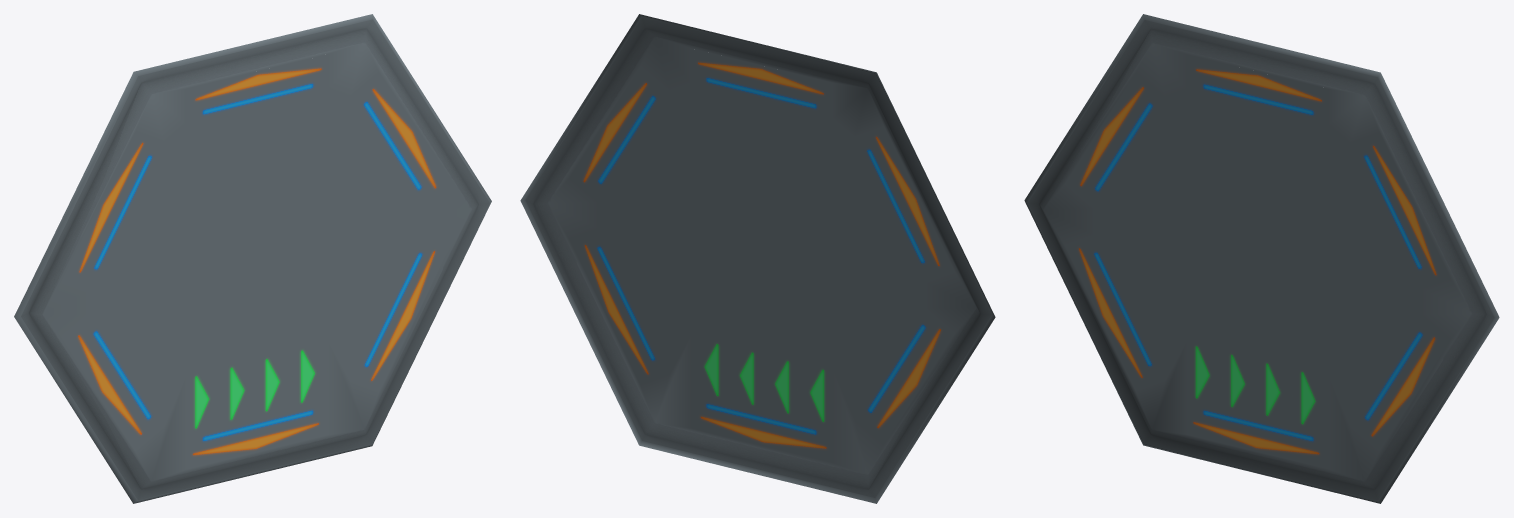
The model's file is Hexa.fbx.
3 renders of one model, left to right at view 1: azimuth 30°, elevation 25°; view 2: azimuth 150°, elevation 25°; view 3: azimuth 330°, elevation 25°, orthographic.
Visible parts, largest first — view 1: Body, Icon, Direction_4, Repeater_4, Repeater_1, Direction_1, Direction_6, Direction_3, Repeater_6, Repeater_3, Direction_5, Repeater_2 (+6 smaller); view 2: Body, Icon, Direction_4, Repeater_1, Direction_1, Repeater_4, Direction_6, Repeater_6, Direction_3, Repeater_3, Direction_5, Direction_2 (+6 smaller); view 3: Body, Icon, Repeater_4, Repeater_1, Direction_4, Direction_1, Direction_5, Repeater_2, Repeater_5, Direction_2, Direction_3, Repeater_3 (+6 smaller).
Boxes of the visible parts, <box> form: Body: <box>14,14,491,503</box>; Icon: <box>170,133,344,357</box>; Direction_4: <box>186,417,327,469</box>; Repeater_4: <box>186,399,327,451</box>; Repeater_1: <box>186,72,327,124</box>; Direction_1: <box>186,54,327,106</box>; Direction_6: <box>64,132,149,282</box>; Direction_3: <box>364,240,449,390</box>; Repeater_6: <box>79,138,164,287</box>; Repeater_3: <box>350,235,434,385</box>; Direction_5: <box>64,327,149,450</box>; Repeater_2: <box>350,86,434,208</box>; Body: <box>520,14,995,503</box>; Icon: <box>675,127,848,351</box>; Direction_4: <box>691,410,832,462</box>; Repeater_1: <box>691,66,832,118</box>; Direction_1: <box>691,48,832,100</box>; Repeater_4: <box>691,392,832,444</box>; Direction_6: <box>869,127,954,276</box>; Repeater_6: <box>854,132,939,281</box>; Direction_3: <box>570,234,654,384</box>; Repeater_3: <box>585,229,669,379</box>; Direction_5: <box>869,321,954,443</box>; Direction_2: <box>570,67,654,189</box>; Body: <box>1024,14,1499,503</box>; Icon: <box>1171,134,1344,357</box>; Repeater_4: <box>1187,399,1328,450</box>; Repeater_1: <box>1187,72,1328,124</box>; Direction_4: <box>1187,417,1328,468</box>; Direction_1: <box>1187,54,1328,106</box>; Direction_5: <box>1065,241,1150,390</box>; Repeater_2: <box>1350,138,1434,288</box>; Repeater_5: <box>1080,235,1164,385</box>; Direction_2: <box>1365,133,1449,282</box>; Direction_3: <box>1365,327,1449,450</box>; Repeater_3: <box>1350,315,1434,437</box>.
Bounding box in the file's own units: 19.97 × 17.3 × 0.3491.
Materials: 5 (5 with a texture image).
